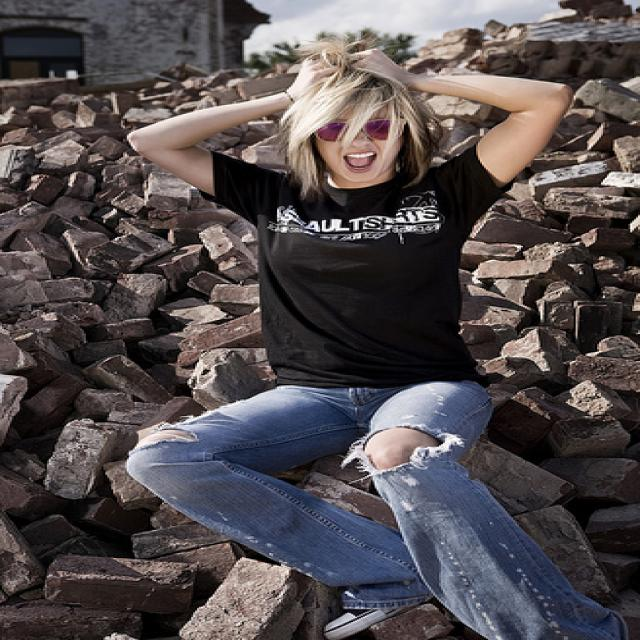T-shirt: (207, 142, 527, 384)
